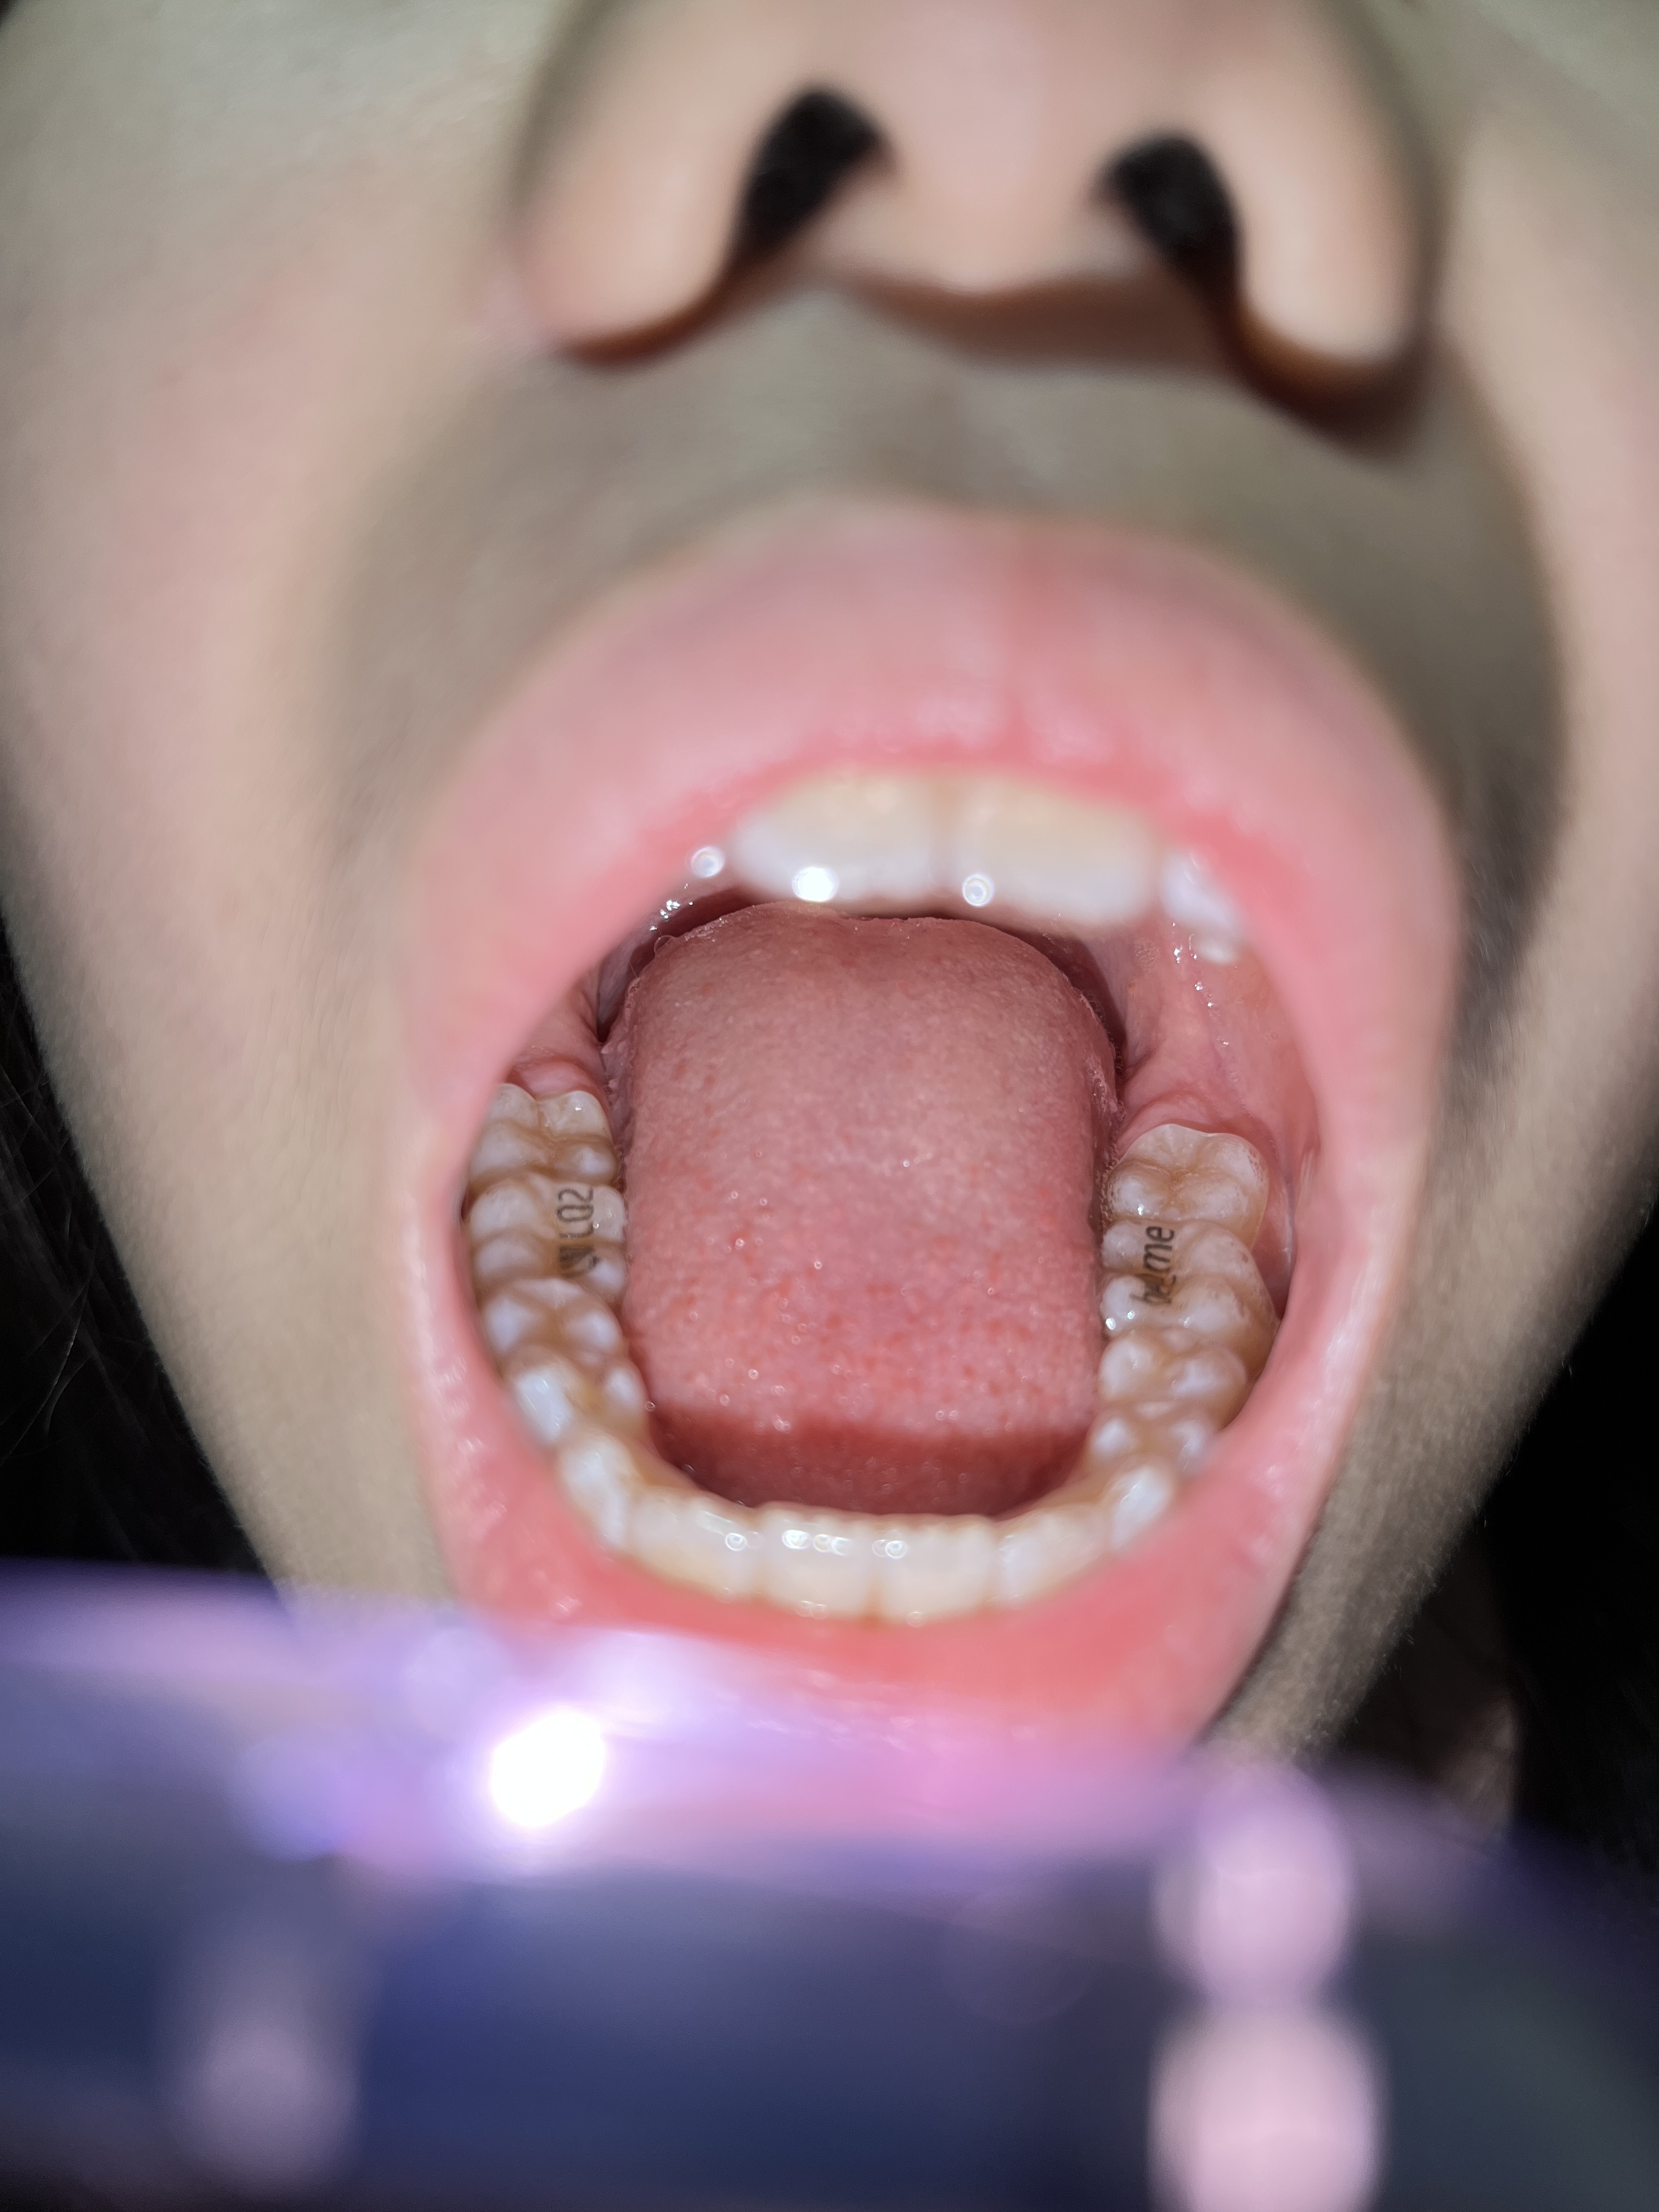teeth: (985, 786, 1171, 914), (746, 772, 936, 895), (479, 1186, 648, 1303), (1094, 1224, 1267, 1338), (1110, 1123, 1279, 1228), (758, 1494, 873, 1623), (873, 1512, 990, 1632), (453, 1094, 605, 1177), (1108, 1341, 1253, 1428), (643, 1501, 744, 1595), (495, 1369, 645, 1432), (479, 1291, 622, 1353), (1014, 1507, 1103, 1599), (561, 1439, 645, 1526), (1093, 1413, 1206, 1470), (1108, 1482, 1180, 1552)
